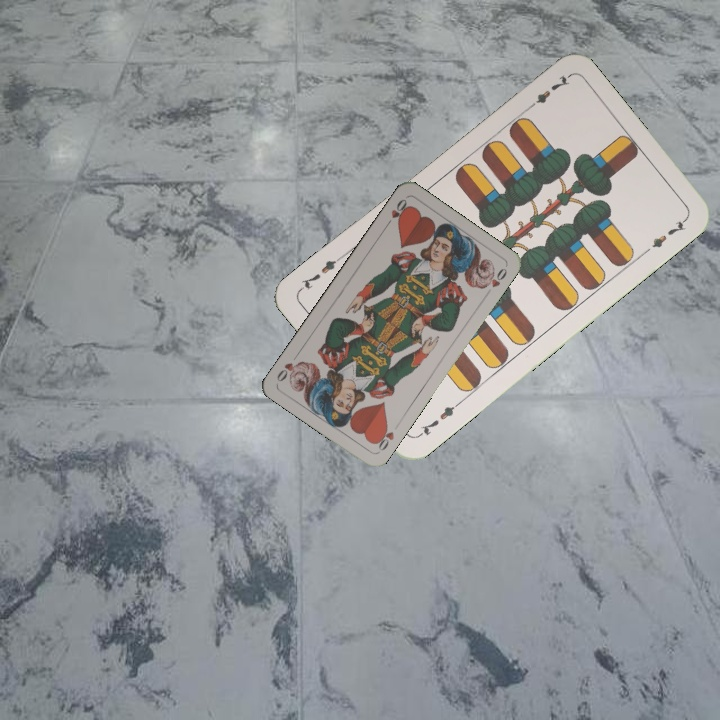E7: (522, 71, 572, 114), (413, 398, 463, 440)
HO: (381, 195, 411, 230), (370, 421, 397, 455)
